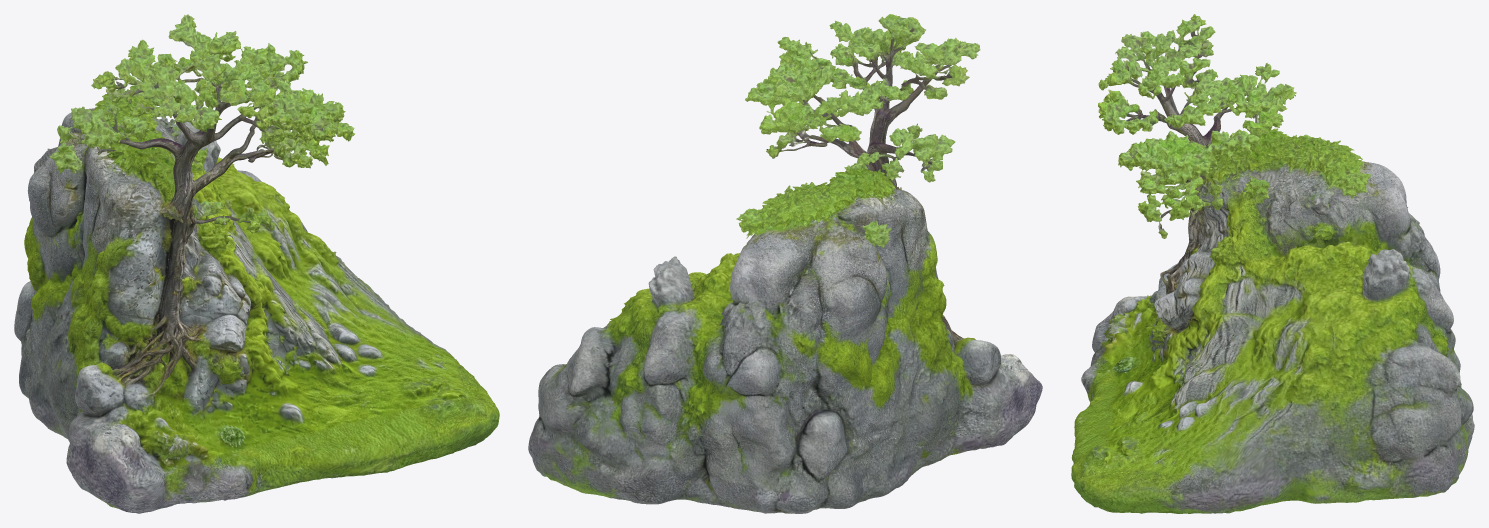
Rendered from rooted-granite.glb.
The picture shows the model from 3 angles, left to right: view 1: azimuth 30°, elevation 25°; view 2: azimuth 150°, elevation 25°; view 3: azimuth 270°, elevation 25°; orthographic projection. The views are drawn at different scales.
Parts seen in each view (by area): view 1: mesh_node; view 2: mesh_node; view 3: mesh_node.
Part boxes in pixels (x1,y1,x2,y2): mesh_node: (14, 14, 499, 513); mesh_node: (528, 14, 1042, 513); mesh_node: (1071, 14, 1474, 513).
Bounding box in the file's own units: 1.86 × 1.86 × 1.87.
1 material, 1 textured.
